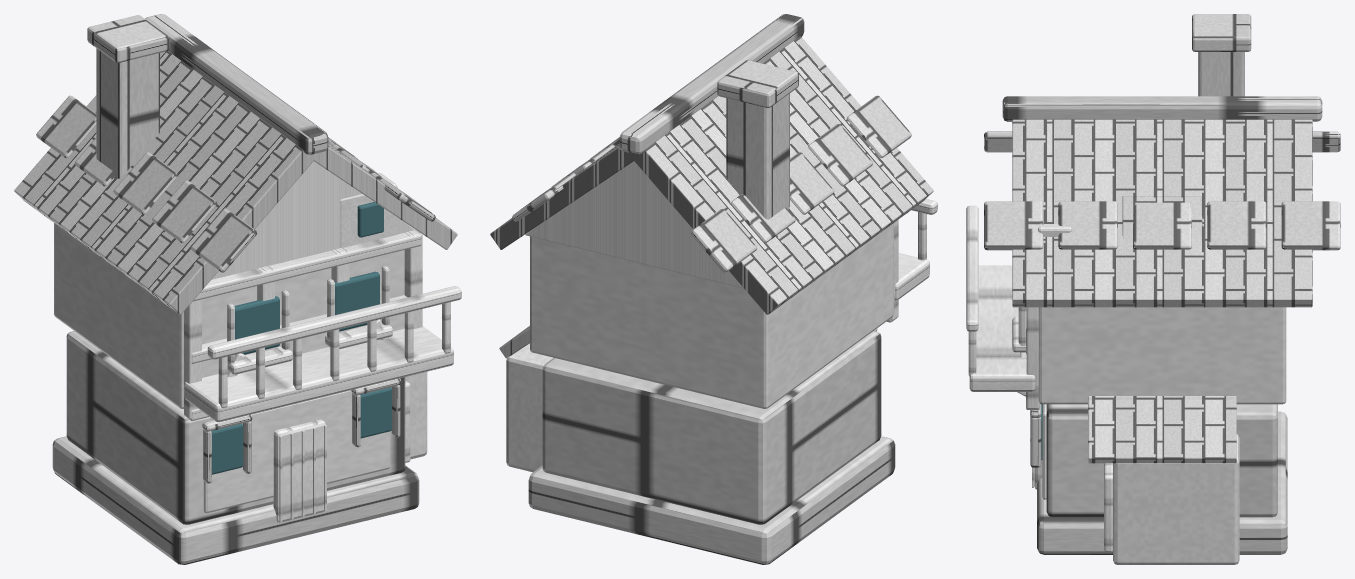
Rendered from house_large_b.glb.
3 renders of one model, left to right at view 1: azimuth 30°, elevation 25°; view 2: azimuth 150°, elevation 25°; view 3: azimuth 270°, elevation 25°, orthographic. The views are drawn at different scales.
Parts seen in each view (by area): view 1: LargeHouseVariantB_Geometry; view 2: LargeHouseVariantB_Geometry; view 3: LargeHouseVariantB_Geometry.
Part boxes in pixels (x1,y1,x2,y2): LargeHouseVariantB_Geometry: (14,14,461,564); LargeHouseVariantB_Geometry: (490,14,937,564); LargeHouseVariantB_Geometry: (966,14,1340,564).
Bounding box in the file's own units: 2.57 × 3.52 × 2.72.
11 materials, 10 textured.
